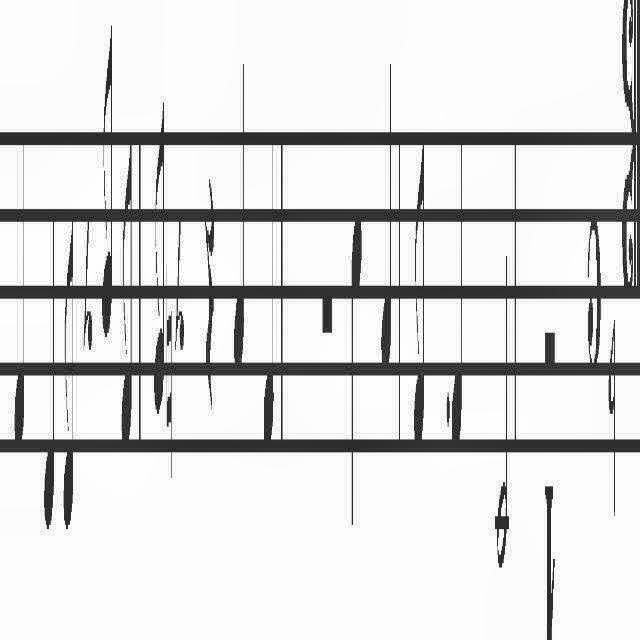Bemol: (608, 316, 616, 526)
Eighth-note: (412, 138, 426, 458), (63, 201, 75, 543), (154, 92, 166, 424), (101, 14, 113, 336), (121, 123, 132, 461)
Eighth-rest: (83, 214, 93, 362), (176, 218, 184, 358)
Half-note: (496, 247, 508, 579)
Quarter-note: (350, 208, 362, 542), (44, 211, 56, 539), (233, 57, 245, 376), (14, 136, 26, 450), (452, 116, 463, 454), (381, 63, 392, 375), (264, 138, 274, 458)
Quarter-rest: (204, 165, 216, 418)
